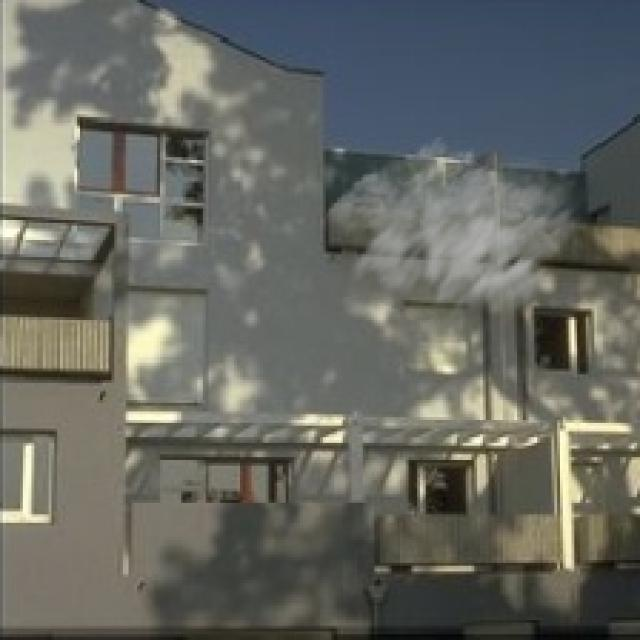smoke: (312, 134, 594, 349)
